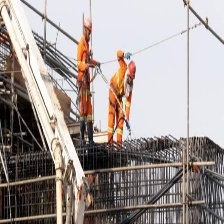helmet: (128, 61, 137, 82), (83, 17, 94, 32)
person: (76, 17, 100, 151), (108, 48, 138, 140)
vest: (110, 70, 131, 125), (77, 37, 95, 89)
